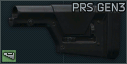Magpul PRS GEN3 stock: (0, 0, 127, 64)
